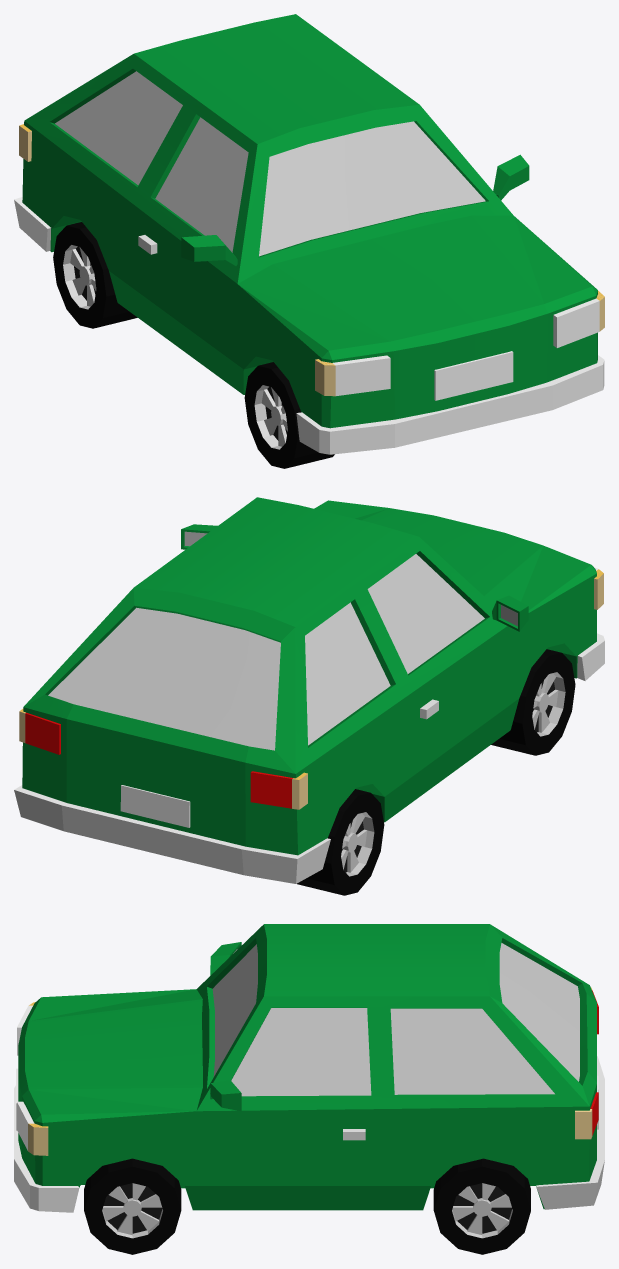
File: Car-09-C.fbx
3 views of the same model, one above another, from view 1: azimuth 30°, elevation 25°; view 2: azimuth 150°, elevation 25°; view 3: azimuth 270°, elevation 25° (orthographic). The views are drawn at different scales.
Visible parts, largest first — view 1: Car-09, BR, FR, Head-Light, Light-Right; view 2: Car-09, FR, BR, Break-Light, Light-Right; view 3: Car-09, FL, BL, Light-Left, Head-Light.
Part boxes in pixels (box(x1,y1,x2,y2)): Car-09: box(14, 14, 604, 454); BR: box(53, 222, 137, 328); FR: box(244, 362, 334, 468); Head-Light: box(333, 298, 599, 395); Light-Right: box(19, 125, 335, 396); Car-09: box(14, 497, 604, 883); FR: box(491, 649, 575, 755); BR: box(297, 789, 384, 895); Break-Light: box(25, 713, 293, 808); Light-Right: box(292, 570, 603, 809); Car-09: box(14, 924, 604, 1212); FL: box(84, 1158, 181, 1254); BL: box(433, 1158, 530, 1254); Light-Left: box(28, 1109, 592, 1155); Head-Light: box(17, 1005, 34, 1150).
Size of the model in its own units: 2.45 by 1.79 by 4.05.
